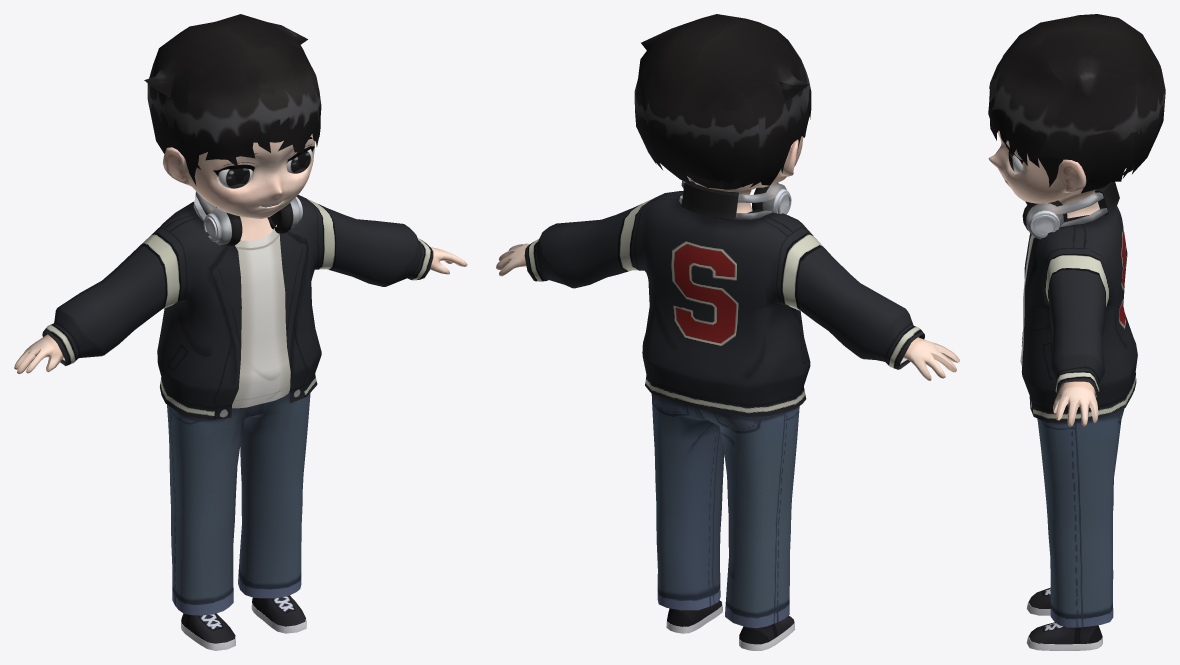
The model's file is uni_250529old.fbx.
The picture shows the model from 3 angles, left to right: view 1: azimuth 30°, elevation 25°; view 2: azimuth 150°, elevation 25°; view 3: azimuth 270°, elevation 25°; orthographic projection. The views are drawn at different scales.
Visible parts, largest first — view 1: Plane020, Object002, Object001; view 2: Plane020, Object002, Object001; view 3: Plane020, Object002, Object001.
Boxes of the visible parts, bbox=[...] form: Plane020: bbox=[42, 191, 433, 650]; Object002: bbox=[144, 14, 321, 185]; Object001: bbox=[14, 134, 467, 373]; Plane020: bbox=[524, 177, 924, 650]; Object002: bbox=[634, 14, 811, 189]; Object001: bbox=[496, 136, 959, 380]; Plane020: bbox=[1020, 182, 1137, 650]; Object002: bbox=[988, 14, 1165, 193]; Object001: bbox=[988, 129, 1099, 426].
Bounding box in the file's own units: 107 × 134 × 36.2.
Materials: 3 (3 with a texture image).
